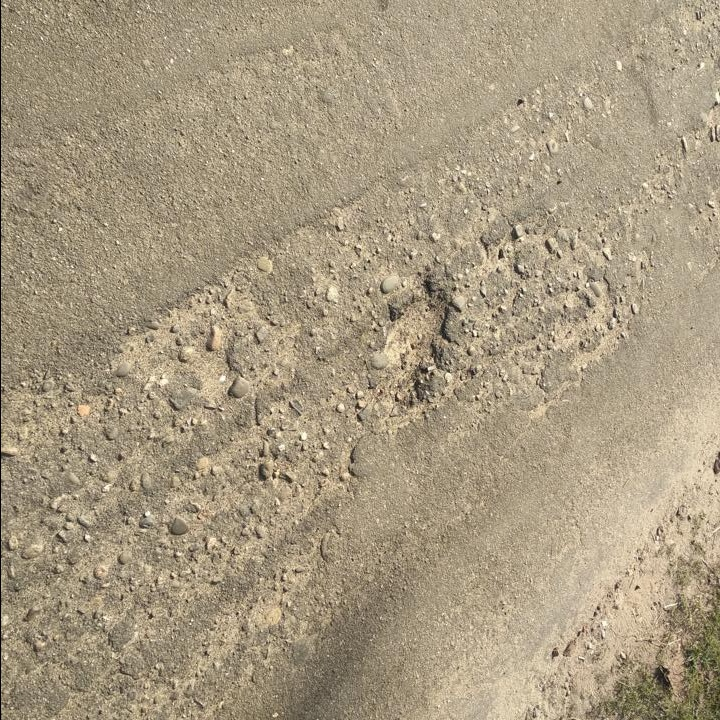pothole: (379, 275, 456, 400)
